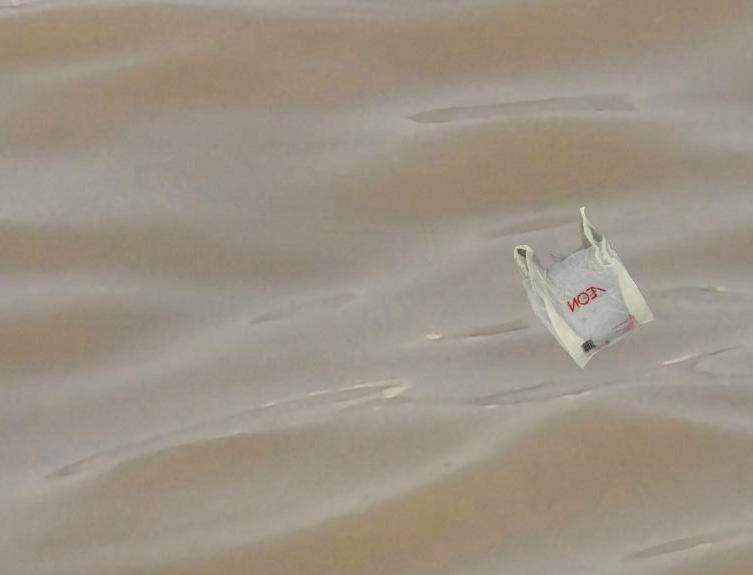Trash: (510, 202, 658, 376)
